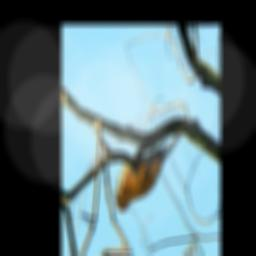Cuckoo: (109, 115, 167, 234)
